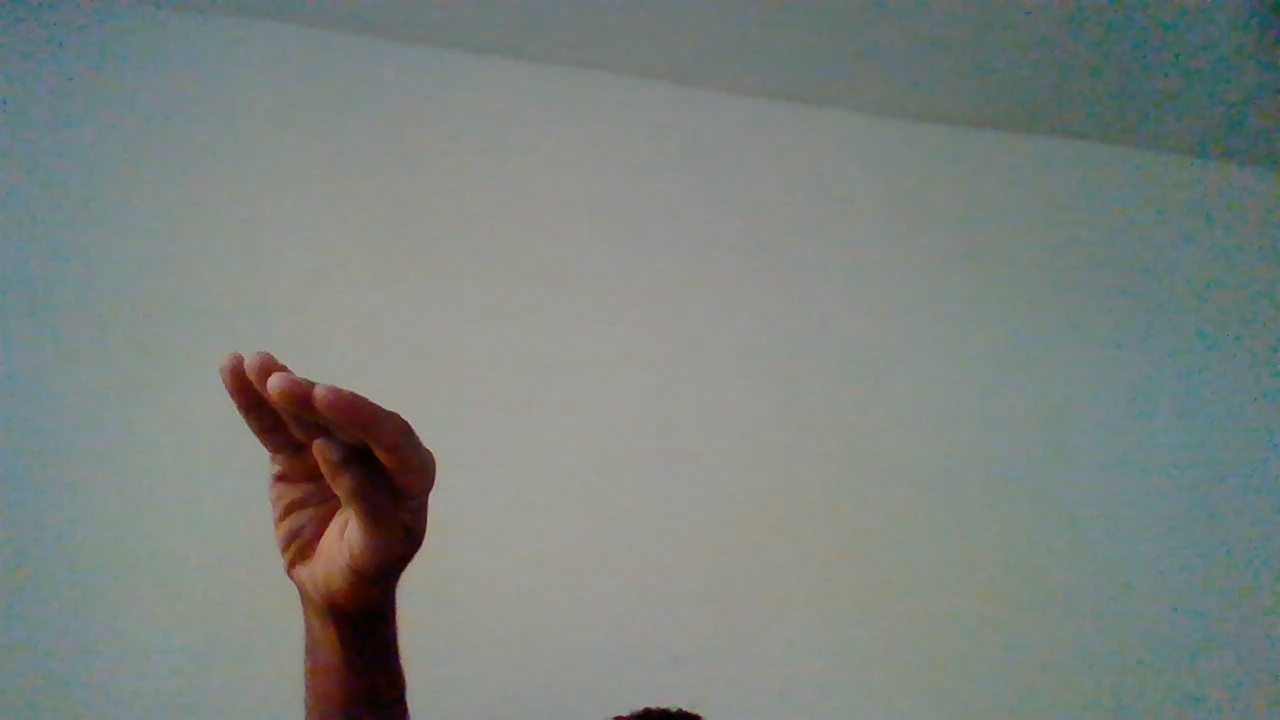me: (216, 346, 442, 715)
